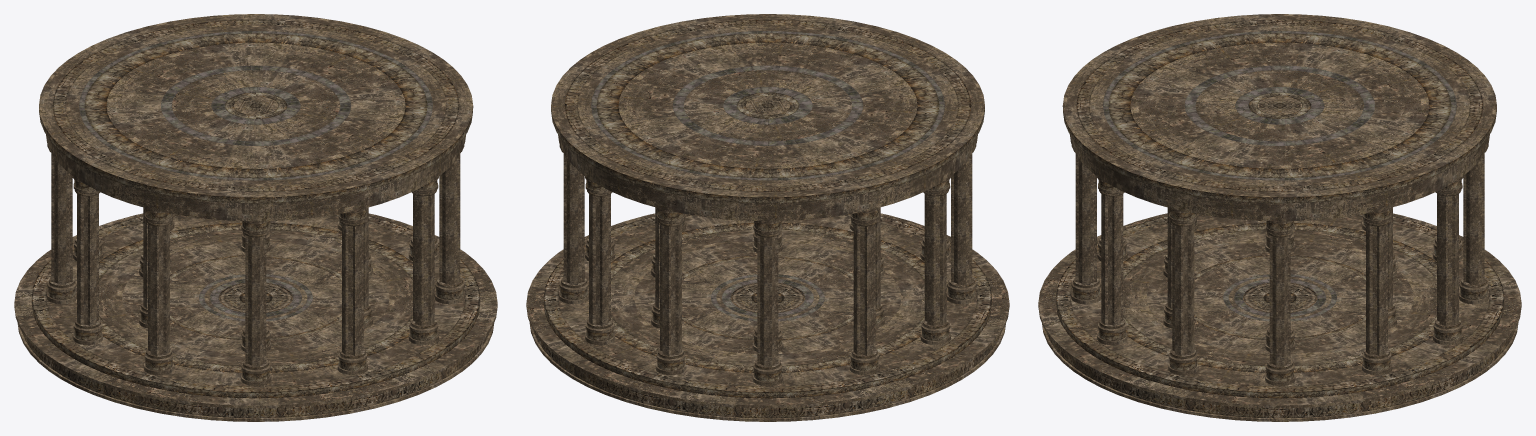
The model's file is materials_5_building_33.fbx.
The picture shows the model from 3 angles, left to right: view 1: azimuth 30°, elevation 25°; view 2: azimuth 150°, elevation 25°; view 3: azimuth 270°, elevation 25°; orthographic projection.
Visible parts, largest first — view 1: materials_5_building_33; view 2: materials_5_building_33; view 3: materials_5_building_33.
Part boxes in pixels (box(x1,y1,x2,y2)): materials_5_building_33: box(14, 14, 497, 421); materials_5_building_33: box(526, 14, 1009, 421); materials_5_building_33: box(1038, 14, 1521, 421).
Size of the model in its own units: 1197 by 589 by 1197.
